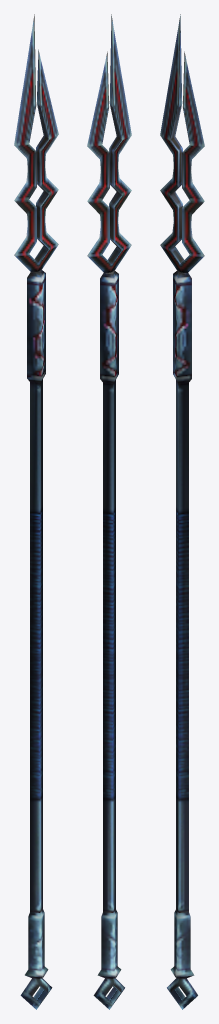
Rendered from Polearm19.FBX.
3 renders of one model, left to right at view 1: azimuth 30°, elevation 25°; view 2: azimuth 210°, elevation 25°; view 3: azimuth 330°, elevation 25°, orthographic.
Visible parts, largest first — view 1: Polearm19; view 2: Polearm19; view 3: Polearm19.
Part boxes in pixels (x1,y1,x2,y2): Polearm19: [14, 14, 58, 1009]; Polearm19: [87, 14, 131, 1009]; Polearm19: [160, 14, 204, 1009].
Bounding box in the file's own units: 12.38 × 263 × 6.64.
